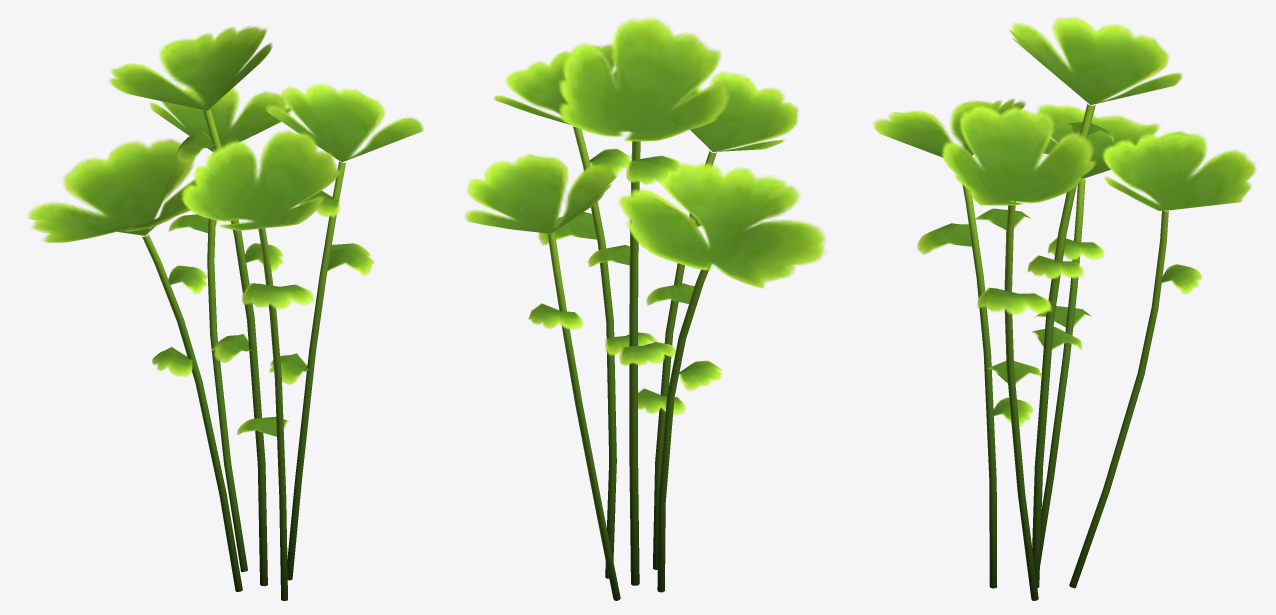
File: n_clover2.glb
3 renders of one model, left to right at view 1: azimuth 30°, elevation 25°; view 2: azimuth 150°, elevation 25°; view 3: azimuth 270°, elevation 25°, orthographic. The views are drawn at different scales.
Parts seen in each view (by area): view 1: Clover_2; view 2: Clover_2; view 3: Clover_2.
Part boxes in pixels (bbox=[...]): Clover_2: bbox=[27, 26, 423, 600]; Clover_2: bbox=[464, 17, 826, 600]; Clover_2: bbox=[873, 17, 1256, 600].
Size of the model in its own units: 0.8511 by 1.26 by 0.8366.
1 material, 1 textured.
